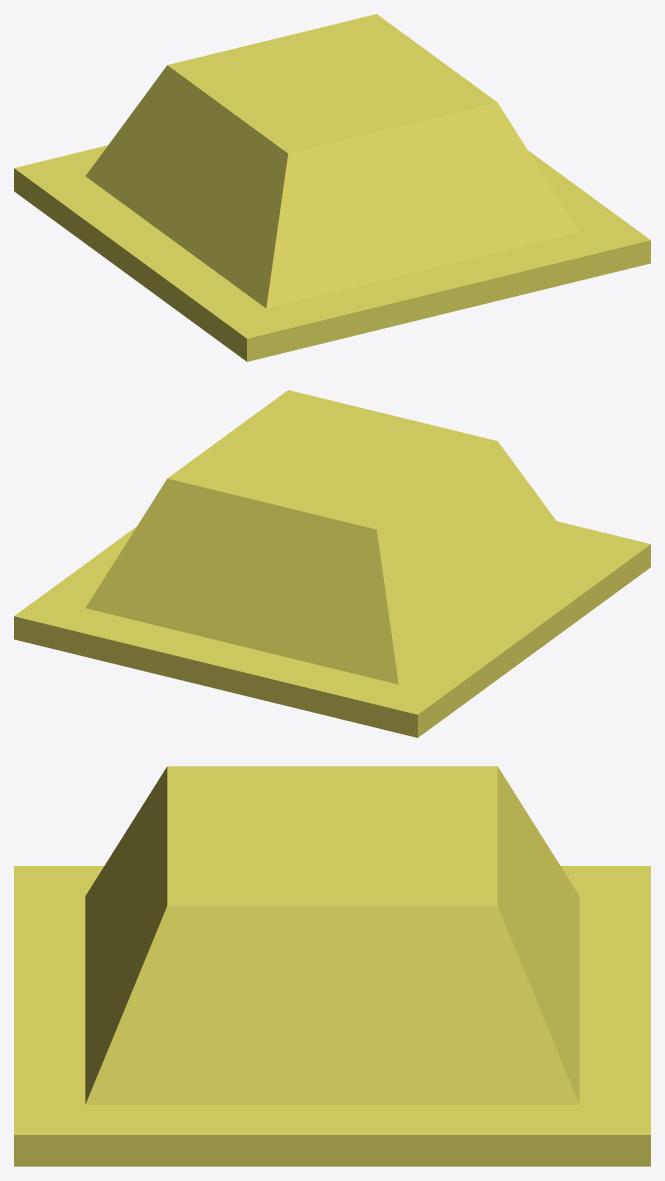
File: switch.fbx
The picture shows the model from 3 angles, top to bottom: view 1: azimuth 30°, elevation 25°; view 2: azimuth 150°, elevation 25°; view 3: azimuth 270°, elevation 25°; orthographic projection. The views are drawn at different scales.
Visible parts, largest first — view 1: switch.001, switch; view 2: switch.001, switch; view 3: switch.001, switch.
Boxes of the visible parts, x1,y1,x2,y2 form: switch.001: [85, 14, 579, 308]; switch: [14, 145, 650, 361]; switch.001: [85, 390, 579, 684]; switch: [14, 521, 650, 737]; switch.001: [85, 766, 579, 1104]; switch: [14, 866, 650, 1166].
Bounding box in the file's own units: 2 × 0.6794 × 2.
